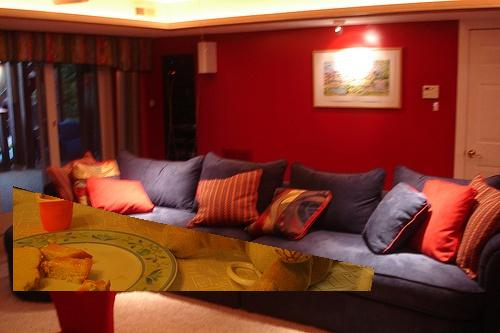tampered: (14, 187, 374, 291)
